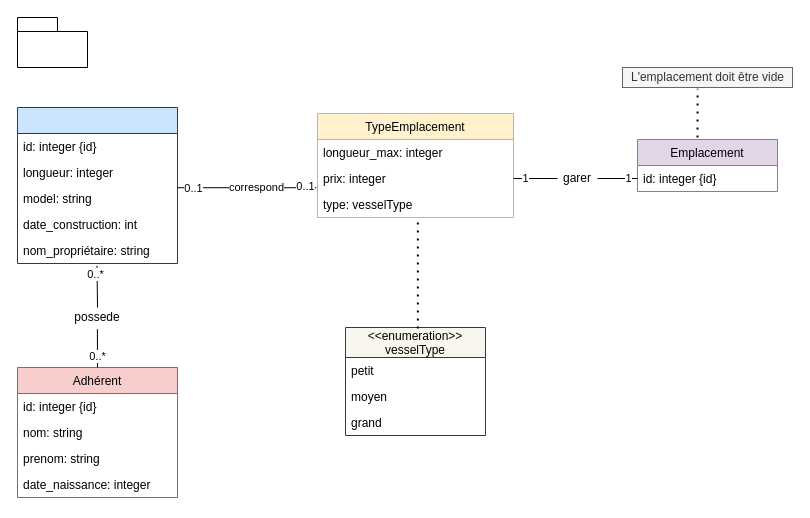
Image size: 810x518. Some labels were removed from this diagram. The box of each missing label's shape, as (x1, y1, x2, y2) in pixels:
Bateau: (16, 106, 178, 264)
Models: (16, 16, 88, 68)
